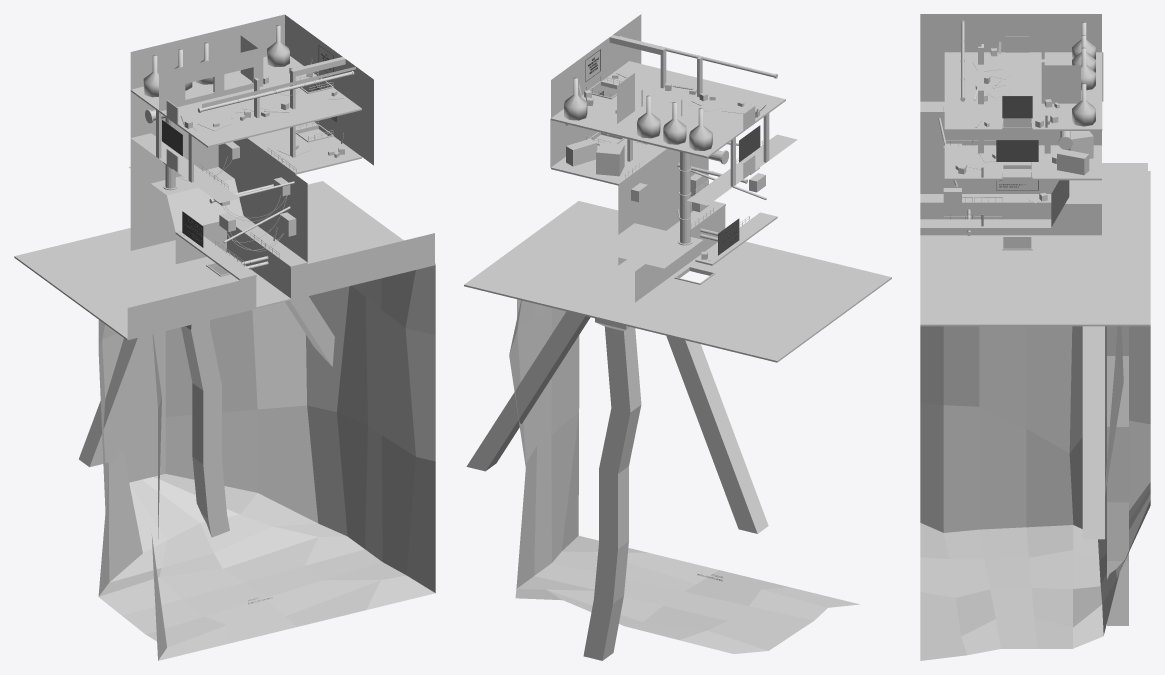
File: map.glb
3 views of the same model, side by side, from view 1: azimuth 30°, elevation 25°; view 2: azimuth 150°, elevation 25°; view 3: azimuth 270°, elevation 25° (orthographic). The views are drawn at different scales.
Visible parts, largest first — view 1: Wall, Floor.005, Cube.002, Frame, A_Plane.029; view 2: Floor.005, Wall, Cube.002, Frame; view 3: Wall, Floor.005, Cube.002, Frame, A_Plane.029, FrameBackground.
Part boxes in pixels (box(x1,y1,x2,y2)): Wall: box(98, 14, 435, 660); Floor.005: box(14, 25, 435, 340); Cube.002: box(79, 267, 334, 537); Frame: box(162, 45, 336, 247); A_Plane.029: box(161, 71, 333, 266); Floor.005: box(464, 35, 891, 362); Wall: box(509, 14, 859, 653); Cube.002: box(466, 311, 768, 660); Frame: box(585, 49, 760, 255); Wall: box(920, 14, 1150, 660); Floor.005: box(920, 20, 1150, 326); Cube.002: box(1082, 326, 1128, 625); Frame: box(996, 96, 1038, 190); A_Plane.029: box(943, 106, 1058, 219); FrameBackground: box(996, 180, 1037, 190).
Bounding box in the file's own units: 63.93 × 102 × 38.05.
2 materials, 1 textured.
